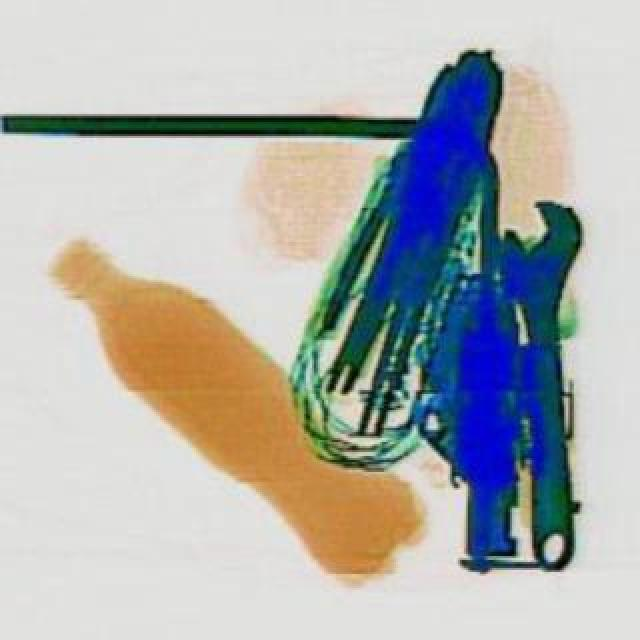scissors: (492, 196, 596, 570)
